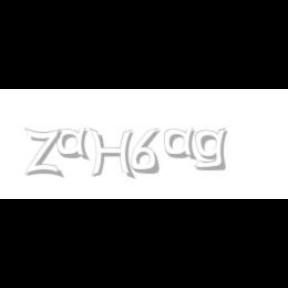6: (130, 128, 160, 176)
H: (89, 128, 135, 180)
Z: (24, 128, 62, 178)
a: (57, 128, 94, 160), (164, 128, 201, 160)
g: (195, 128, 232, 171)
